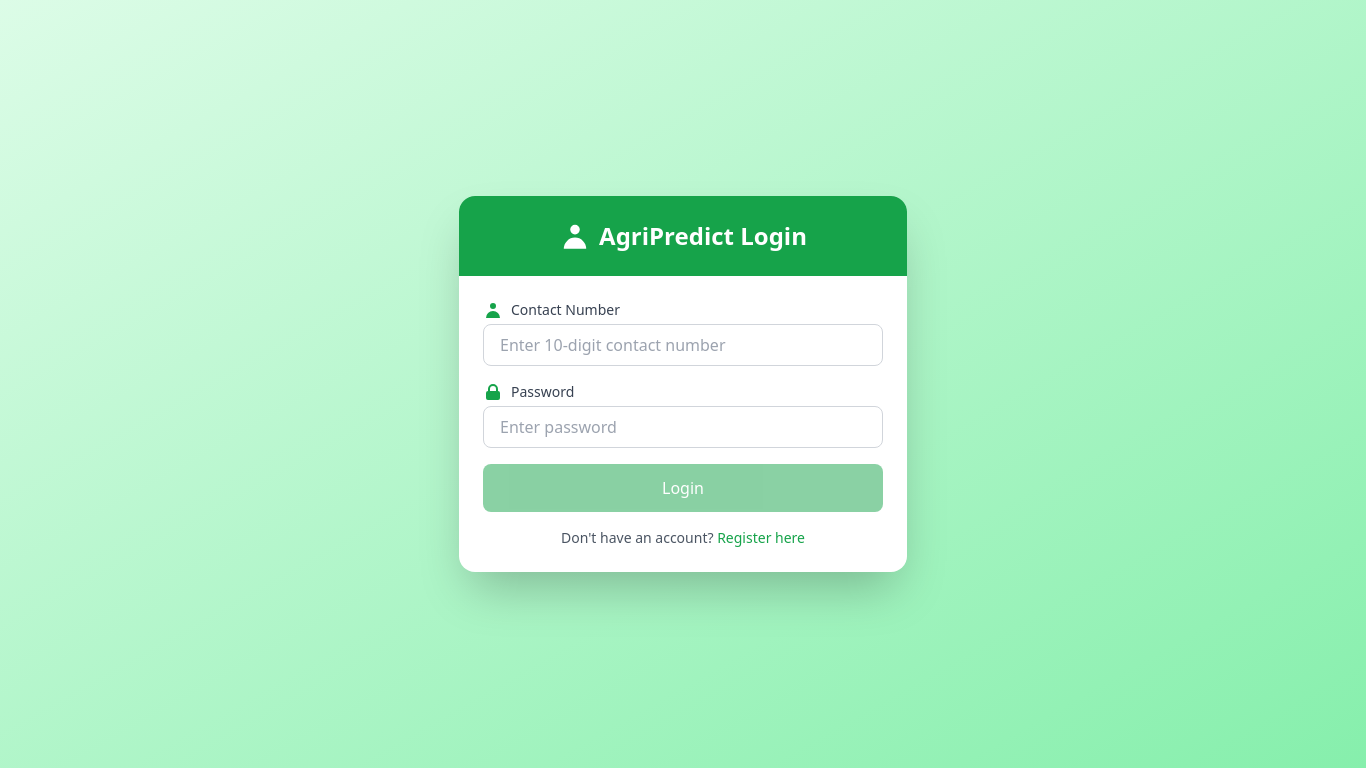
Test: Login Component › validates contact number field correctly
Type "12345" into the field with placeholder "Enter 10-digit contact number" at (683, 345), box [483, 324, 883, 366]
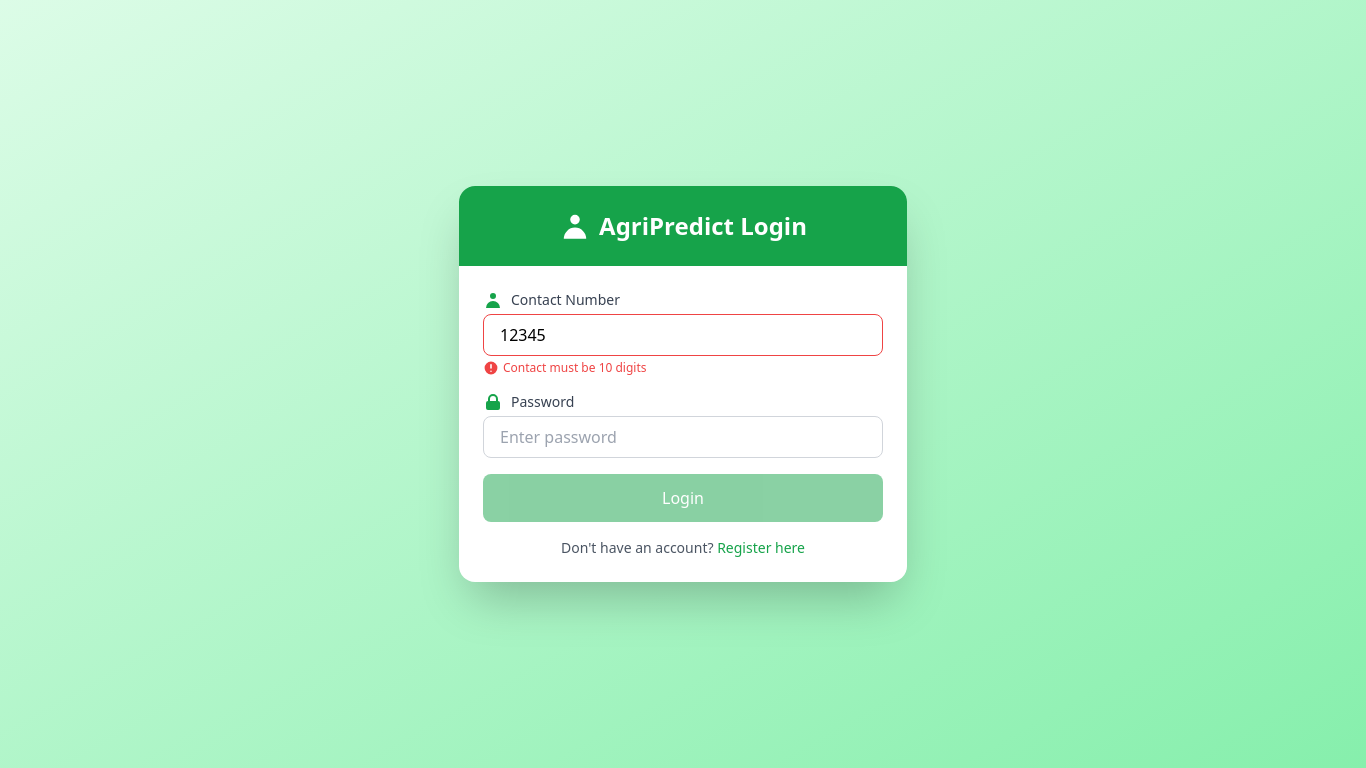
Check: the text "Contact must be 10 digits" is shown, box [483, 359, 646, 376]
Replace the text in the field with placeholder "Enter 10-digit contact number" with "9876543210" at (683, 335), box [483, 314, 883, 356]
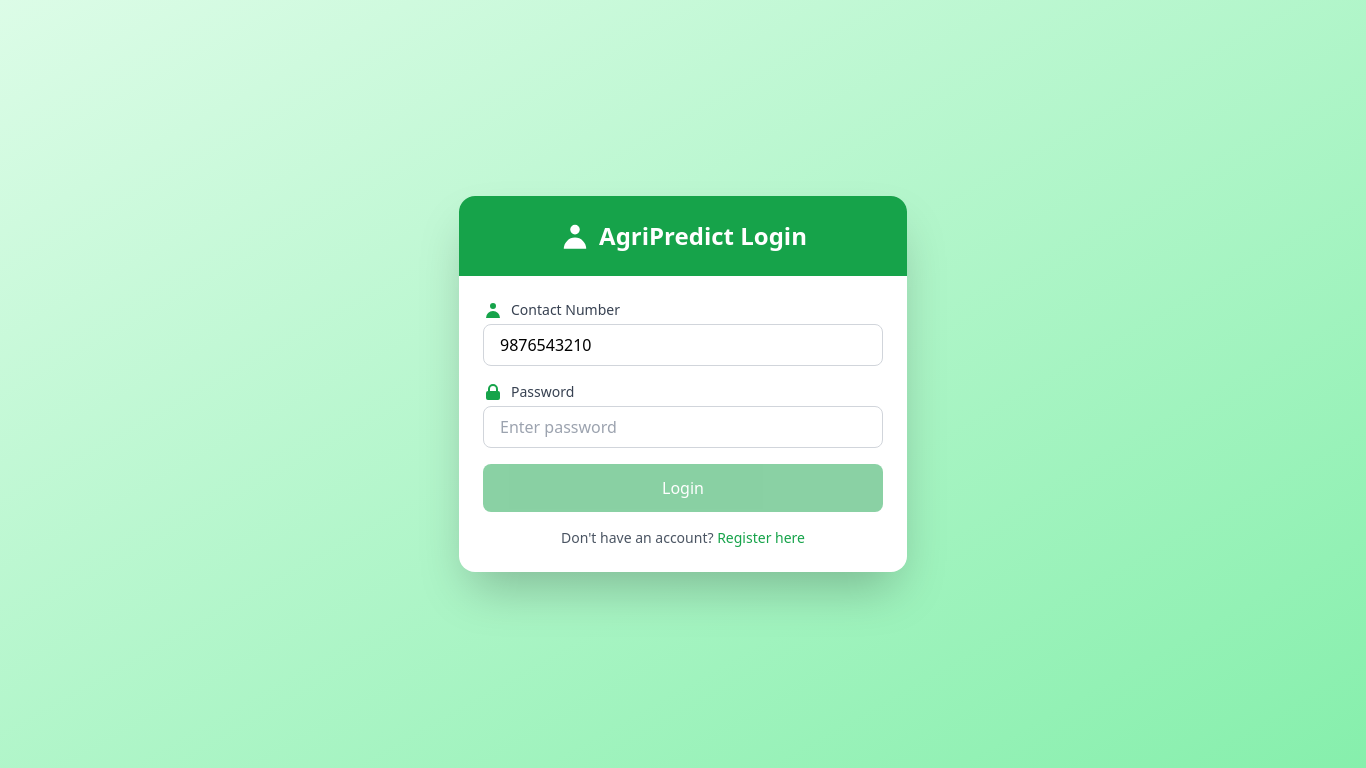
Check: the text "Contact must be 10 digits" is gone
